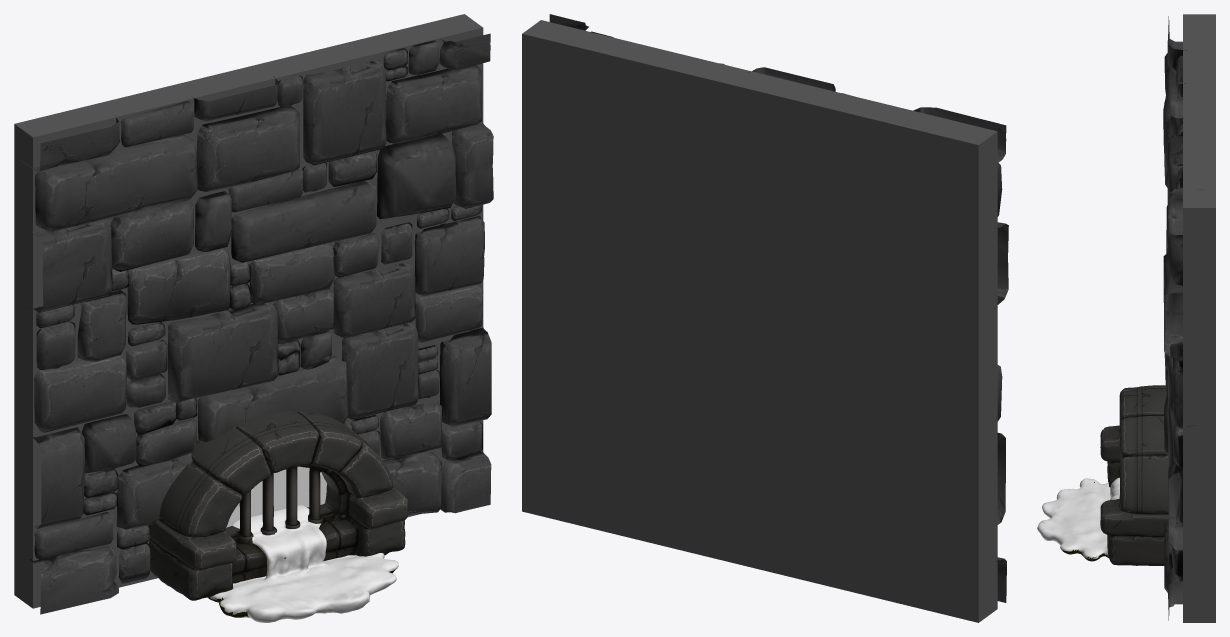
File: Wall_Drain.fbx
The picture shows the model from 3 angles, left to right: view 1: azimuth 30°, elevation 25°; view 2: azimuth 150°, elevation 25°; view 3: azimuth 270°, elevation 25°; orthographic projection. The views are drawn at different scales.
Visible parts, largest first — view 1: Wall_Drain_small; view 2: Wall_Drain_small; view 3: Wall_Drain_small.
Part boxes in pixels (bbox=[...]): Wall_Drain_small: bbox=[14, 14, 493, 622]; Wall_Drain_small: bbox=[522, 14, 1008, 622]; Wall_Drain_small: bbox=[1037, 14, 1215, 622].
Size of the model in its own units: 302 by 305 by 117.
Materials: 5 (2 with a texture image).
